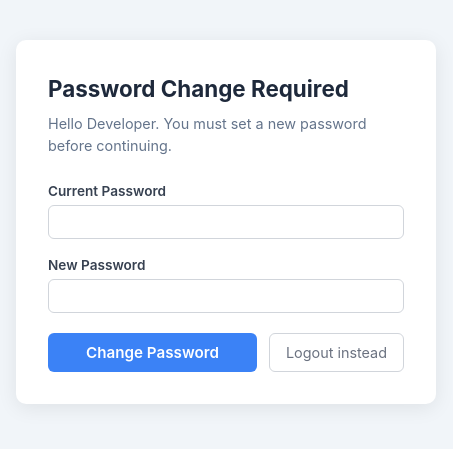
Test: ChangePasswordPage › shows the API error and does not navigate on failure
Type "old" into the password field labelled "Current Password".
click(226, 222); type("old")  # box [48,205,404,239]
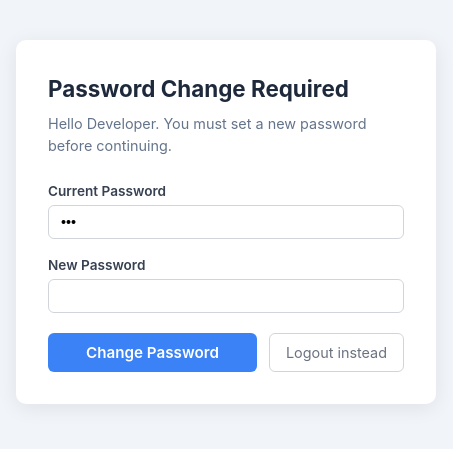
Type "weak" into the password field labelled "New Password".
click(226, 296); type("weak")  # box [48,279,404,313]
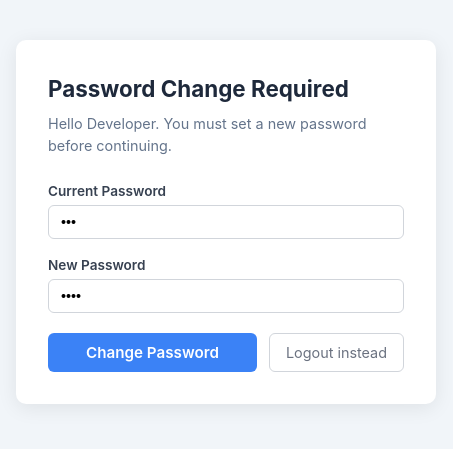
Click the button "Change Password".
click(152, 353)  # box [48,333,257,372]
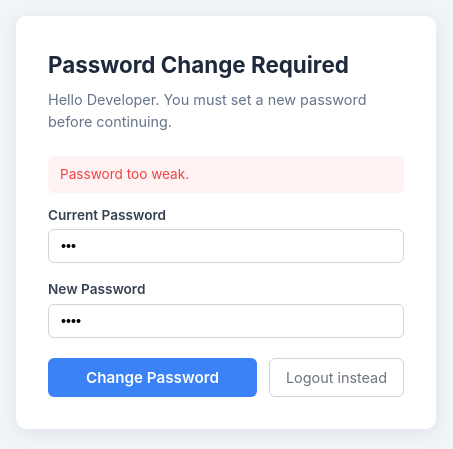
Result: the text "Password too weak." is shown at [48,156,404,193]
